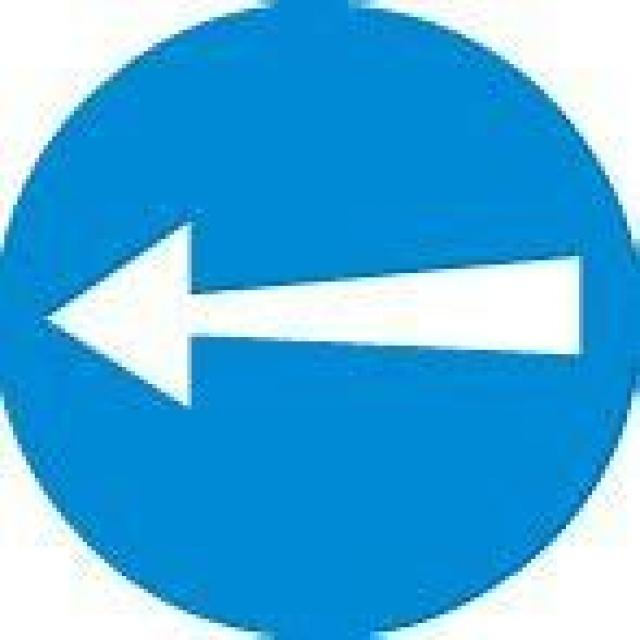COMPULSARY_TURN_LEFT: (0, 0, 636, 636)
